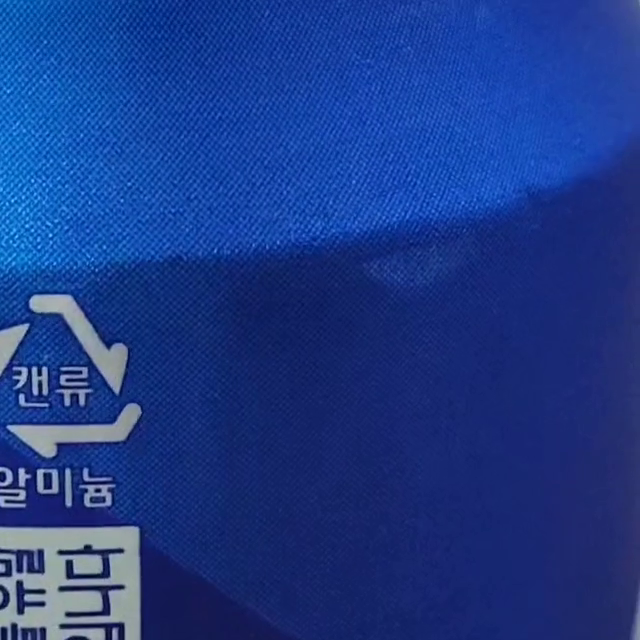Can: (0, 291, 144, 453)
